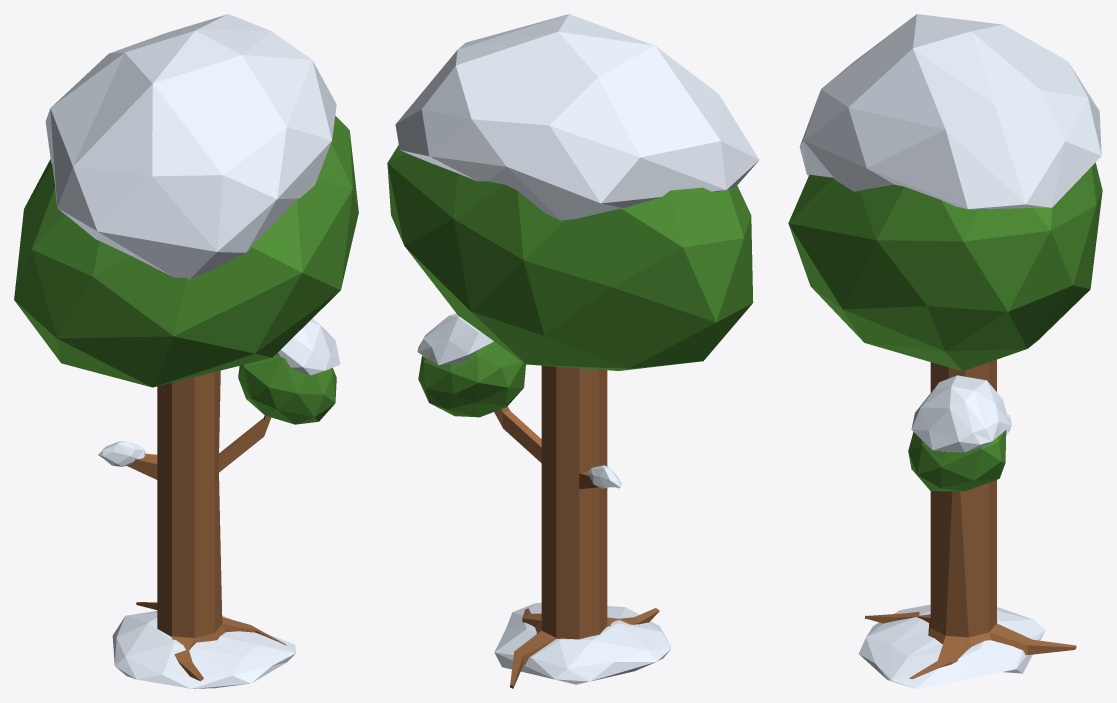
Rendered from Tree2.fbx.
The picture shows the model from 3 angles, left to right: view 1: azimuth 30°, elevation 25°; view 2: azimuth 150°, elevation 25°; view 3: azimuth 270°, elevation 25°; orthographic projection.
Visible parts, largest first — view 1: Icosphere.007, Icosphere, Cylinder, Icosphere.020, Icosphere.001, Icosphere.009, Icosphere.010; view 2: Icosphere, Icosphere.007, Cylinder, Icosphere.020, Icosphere.001, Icosphere.009, Icosphere.010; view 3: Icosphere.007, Icosphere, Cylinder, Icosphere.020, Icosphere.009, Icosphere.001.
Boxes of the visible parts, <box> form: Icosphere.007: <box>45,14,336,279</box>; Icosphere: <box>14,115,358,387</box>; Cylinder: <box>127,370,286,681</box>; Icosphere.020: <box>112,611,295,688</box>; Icosphere.001: <box>238,354,336,424</box>; Icosphere.009: <box>276,318,340,375</box>; Icosphere.010: <box>98,441,145,466</box>; Icosphere: <box>387,145,753,370</box>; Icosphere.007: <box>395,14,759,220</box>; Cylinder: <box>494,365,659,688</box>; Icosphere.020: <box>494,603,671,684</box>; Icosphere.001: <box>418,341,525,417</box>; Icosphere.009: <box>417,313,493,365</box>; Icosphere.010: <box>588,465,621,488</box>; Icosphere.007: <box>799,14,1101,209</box>; Icosphere: <box>788,162,1102,371</box>; Cylinder: <box>865,359,1076,678</box>; Icosphere.020: <box>858,604,1045,688</box>; Icosphere.009: <box>911,375,1010,452</box>; Icosphere.001: <box>908,430,1006,491</box>.
Bounding box in the file's own units: 496 × 905 × 410.
